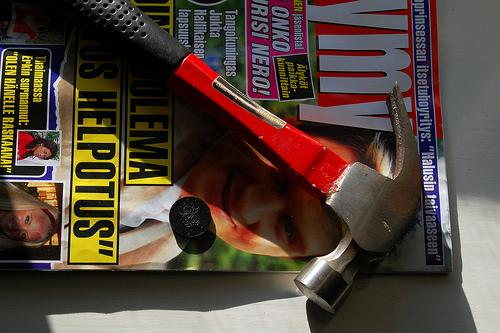hammer: (64, 0, 426, 317)
